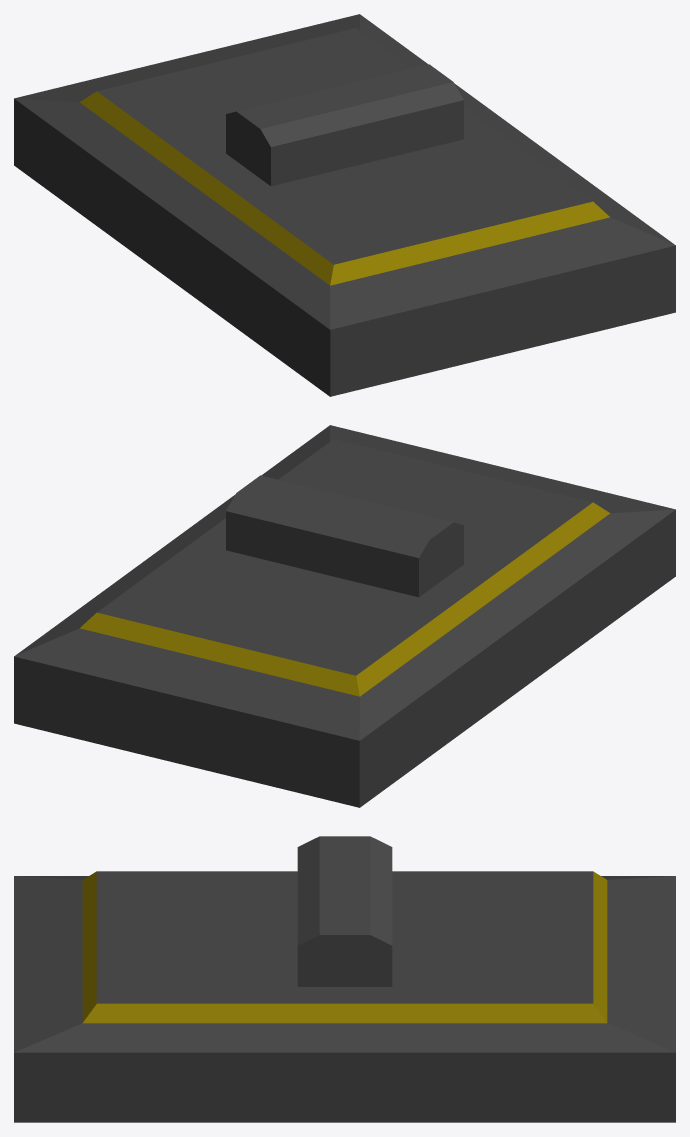
File: LeverBase.fbx
3 renders of one model, top to bottom at view 1: azimuth 30°, elevation 25°; view 2: azimuth 150°, elevation 25°; view 3: azimuth 270°, elevation 25°, orthographic. The views are drawn at different scales.
Visible parts, largest first — view 1: pCube1; view 2: pCube1; view 3: pCube1.
Boxes of the visible parts, x1,y1,x2,y2 form: pCube1: [14, 14, 675, 396]; pCube1: [14, 425, 675, 807]; pCube1: [14, 836, 675, 1122].
Size of the model in its own units: 0.3 by 0.1179 by 0.4751.
